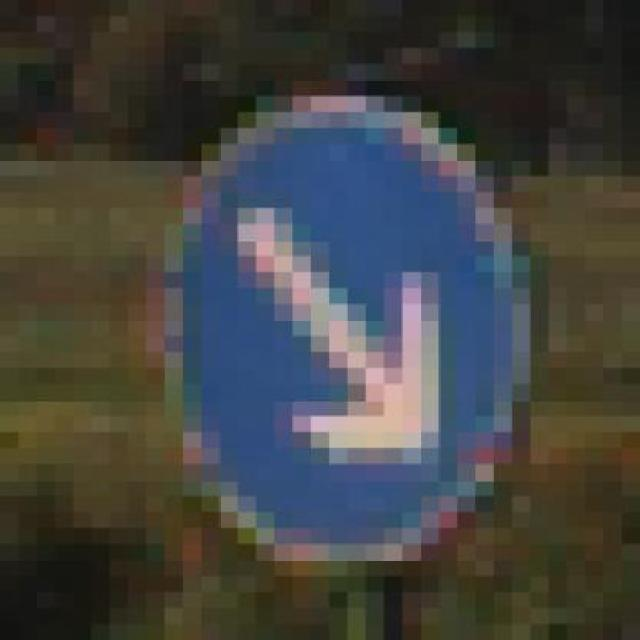Keep-Right: (110, 64, 548, 591)
